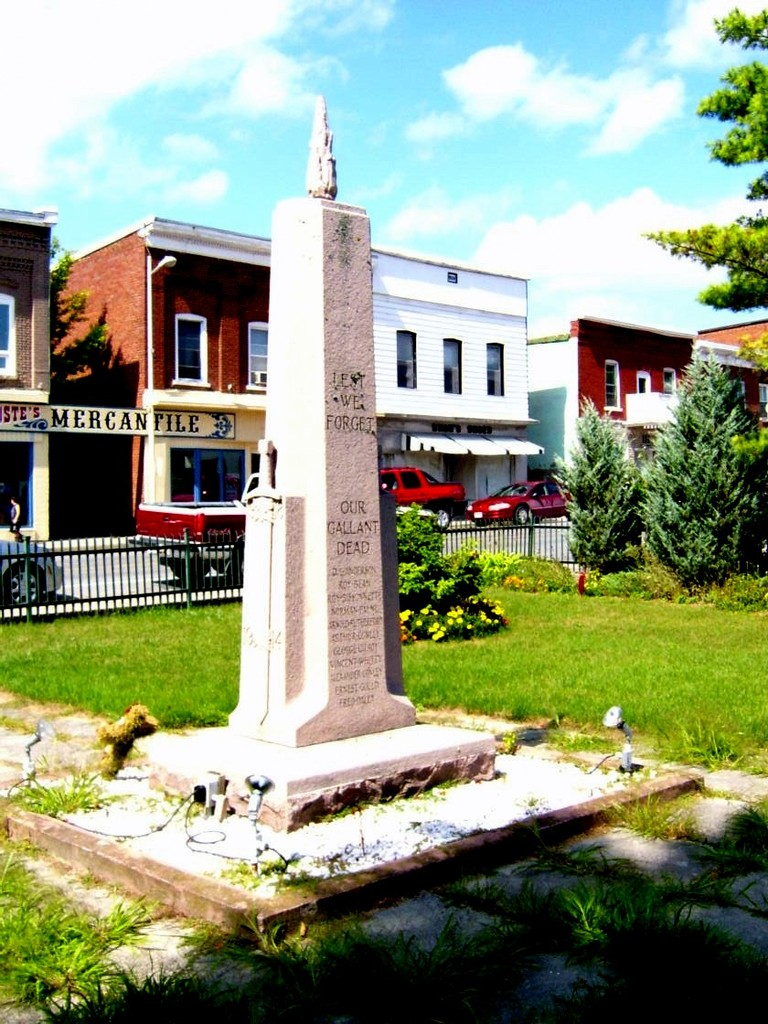Car: (466, 476, 577, 522), (379, 470, 458, 533), (0, 541, 61, 605)
